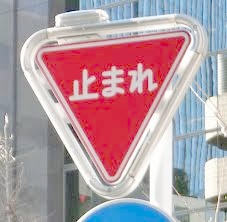Regulatory_sign_triangle: (29, 36, 201, 194)
